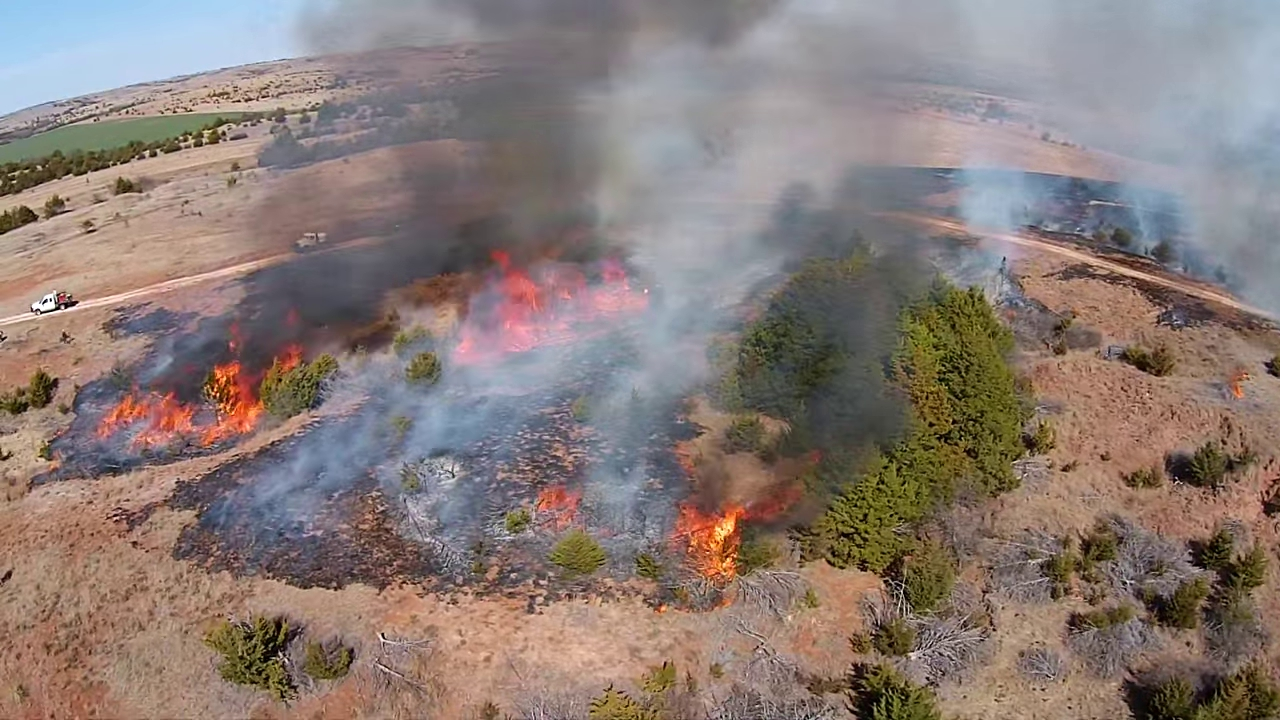forest_fire: (454, 250, 648, 363), (96, 360, 263, 446), (672, 503, 744, 580), (535, 485, 580, 528), (1228, 370, 1249, 399), (274, 345, 301, 367), (229, 336, 237, 352)
